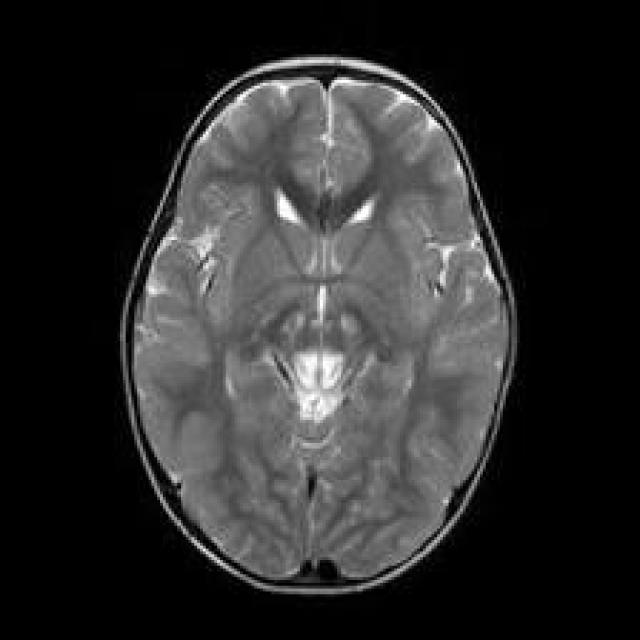no_tumor: (110, 50, 528, 616)
